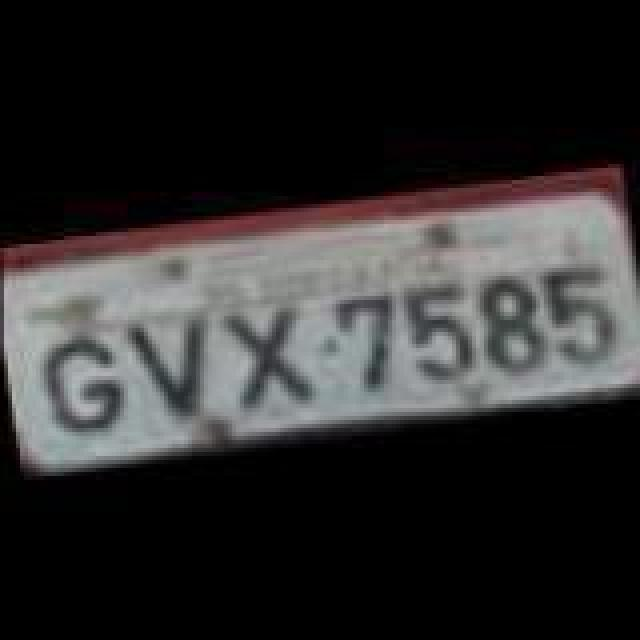5: (544, 260, 628, 372), (404, 278, 480, 390)
7: (330, 294, 410, 398)
8: (474, 268, 554, 376)
G: (36, 330, 128, 438)
V: (124, 310, 216, 426)
X: (220, 304, 312, 420)
